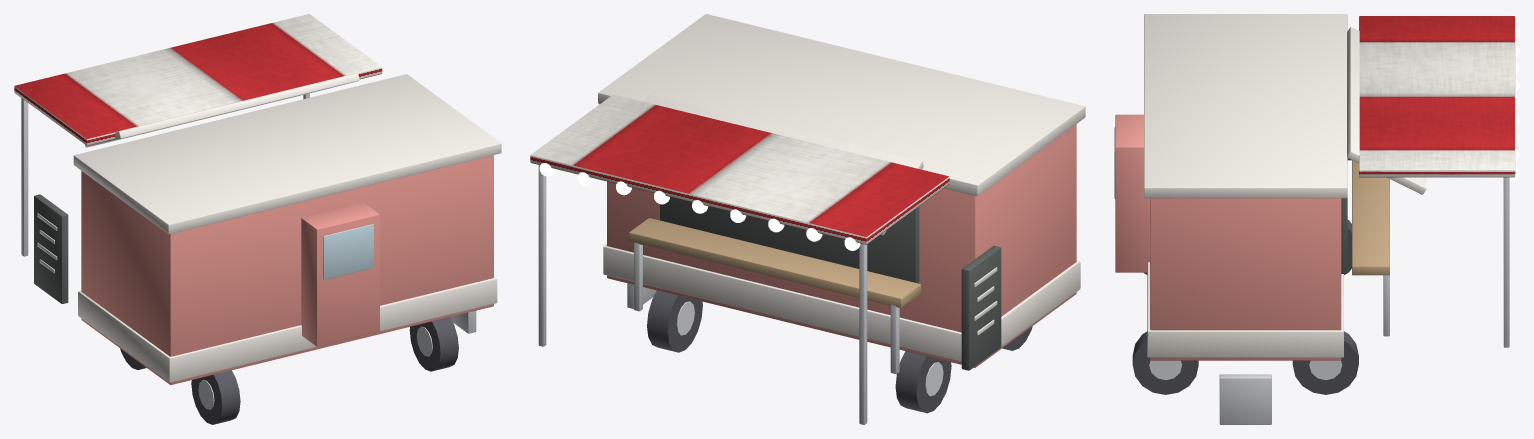
Rendered from th33_imbisswagen.glb.
The picture shows the model from 3 angles, left to right: view 1: azimuth 30°, elevation 25°; view 2: azimuth 150°, elevation 25°; view 3: azimuth 270°, elevation 25°; orthographic projection. The views are drawn at different scales.
Visible parts, largest first — view 1: Cube, Cube.002, Cube.010, Cube.001, Cube.003, Cube.013, Cube.006, Cube.004, Cylinder, Cylinder.004, Cube.011; view 2: Cube.002, Cube.010, Cube, Cube.001, Cube.007, Cube.005, Cube.013, Cube.006, Cylinder.002, Cylinder.006, Cube.011, Cube.012 (+2 smaller); view 3: Cube.002, Cube, Cube.010, Cube.001, Cube.003, Cube.007, Cube.018, Cube.006, Cylinder.004, Cylinder.006, Cube.012, Cylinder.005 (+3 smaller).
Part boxes in pixels (x1,y1,x2,y2): Cube: [81, 155, 493, 384]; Cube.002: [73, 74, 501, 234]; Cube.010: [14, 14, 382, 145]; Cube.001: [78, 276, 497, 382]; Cube.003: [301, 202, 379, 346]; Cube.013: [34, 194, 68, 303]; Cube.006: [85, 73, 359, 147]; Cube.004: [323, 224, 373, 279]; Cylinder: [191, 370, 240, 424]; Cylinder.004: [409, 317, 458, 371]; Cube.011: [21, 98, 28, 256]; Cube.002: [598, 14, 1085, 196]; Cube.010: [530, 94, 949, 244]; Cube: [607, 124, 1076, 367]; Cube.001: [603, 244, 1080, 361]; Cube.007: [629, 218, 921, 307]; Cube.005: [660, 197, 919, 283]; Cube.013: [961, 245, 1001, 370]; Cube.006: [646, 94, 923, 235]; Cylinder.002: [895, 351, 951, 413]; Cylinder.006: [647, 290, 702, 352]; Cube.011: [859, 243, 867, 424]; Cube.012: [538, 165, 546, 346]; Cube.002: [1144, 14, 1347, 198]; Cube: [1150, 198, 1341, 360]; Cube.010: [1359, 16, 1515, 177]; Cube.001: [1147, 262, 1343, 357]; Cube.003: [1115, 114, 1149, 272]; Cube.007: [1352, 160, 1389, 275]; Cube.018: [1219, 374, 1271, 424]; Cube.006: [1347, 27, 1426, 194]; Cylinder.004: [1132, 331, 1198, 394]; Cylinder.006: [1292, 331, 1358, 394]; Cube.012: [1503, 177, 1509, 347]; Cylinder.005: [1149, 360, 1182, 380].
Size of the model in its own units: 5.12 by 3.1 by 4.66.
Materials: 11 (1 with a texture image).
